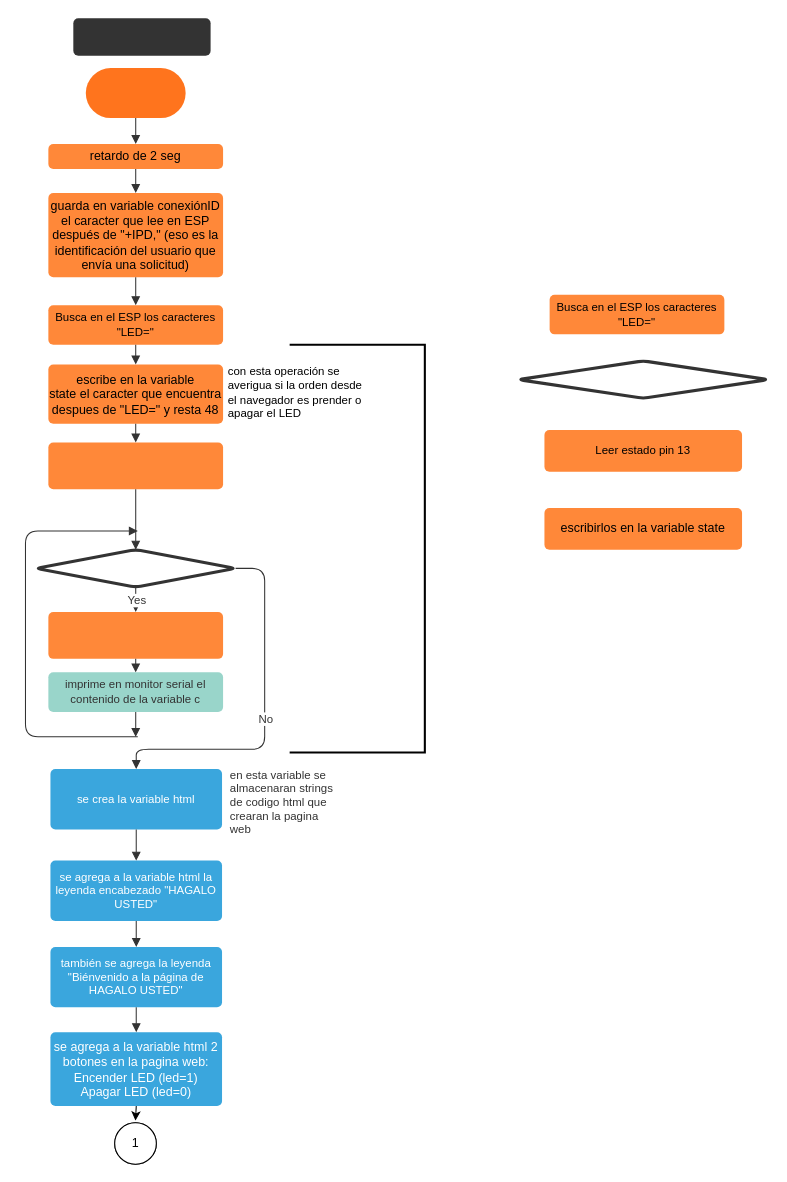
Some shapes in this 787 by 1182 pixel diagram are drawn without their labels. The shapes that lost their labels are listed below. From the top down, each one's centre as x and y in pixels, then its label:
(x=141, y=36): DATA SERVER
(x=135, y=92): Start
(x=642, y=379): ESP tiene los caracteres "LED="
(x=135, y=465): escribe en pin 13 el contenido de la variable state (prende o apaga el LED)
(x=135, y=568): ESP tiene datos?
(x=135, y=635): escribe en variable c el caracter que hay en el ESP
